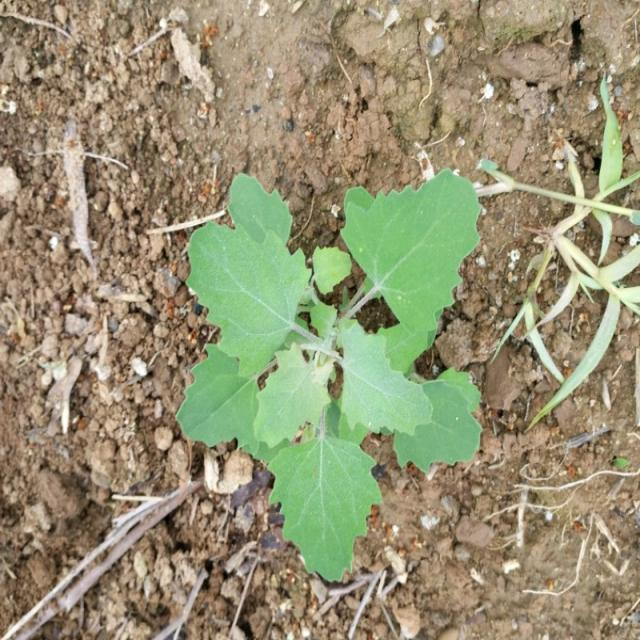ca: (176, 168, 484, 583)
